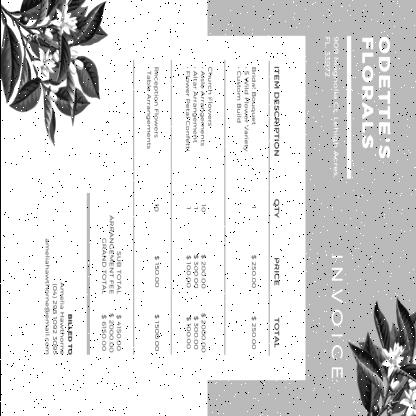Paragraph: (94, 210, 126, 356), (358, 34, 393, 164), (42, 233, 76, 360), (322, 32, 340, 180), (328, 252, 344, 380)
Table: (133, 56, 282, 356)
